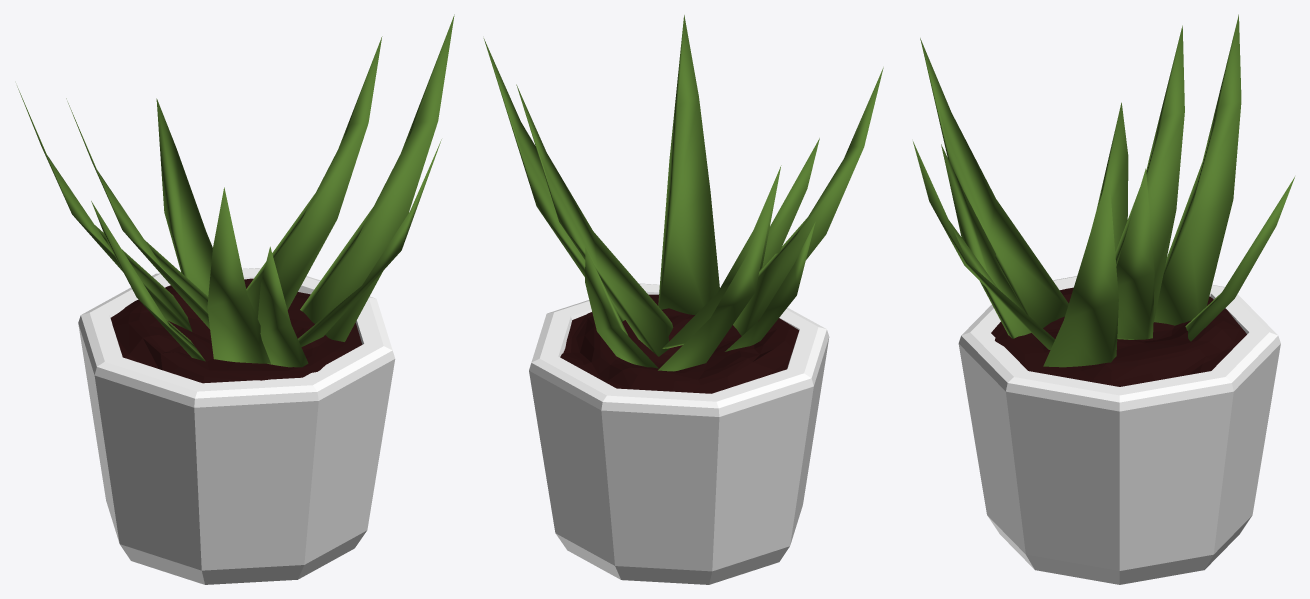
Rendered from aloe vera.glb.
The picture shows the model from 3 angles, left to right: view 1: azimuth 30°, elevation 25°; view 2: azimuth 150°, elevation 25°; view 3: azimuth 270°, elevation 25°; orthographic projection. The views are drawn at different scales.
Visible parts, largest first — view 1: aloevera; view 2: aloevera; view 3: aloevera.
Part boxes in pixels (x1=…): aloevera: x1=17, y1=14, x2=454, y2=584; aloevera: x1=483, y1=15, x2=883, y2=584; aloevera: x1=913, y1=14, x2=1294, y2=584.
Bounding box in the file's own units: 1.83 × 2.25 × 1.65.
